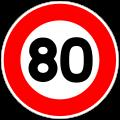Speed Limit -80-: (28, 32, 94, 88)
